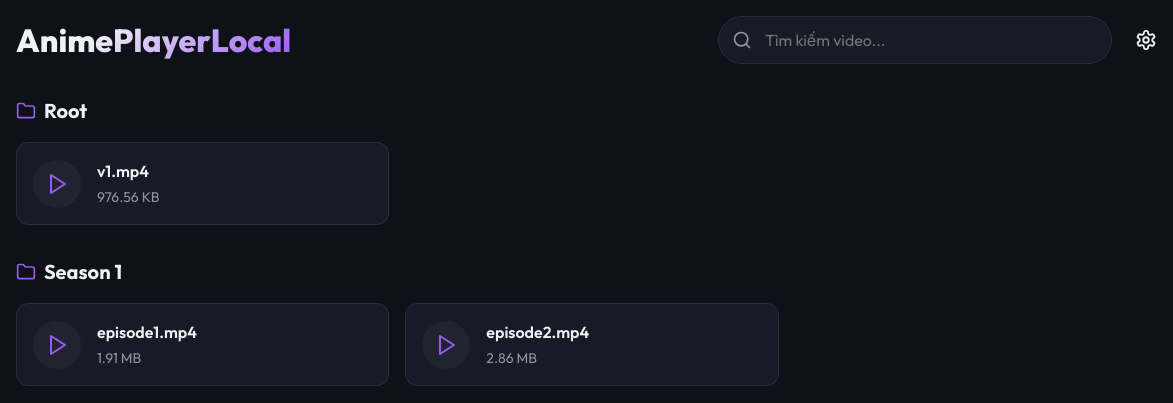
Test: FileBrowser Component › filters video list based on search query
The image size is (1173, 403).
Type "episode" into the field with placeholder "Tìm kiếm video...".
click(915, 40); type("episode")  # box [718, 16, 1112, 64]
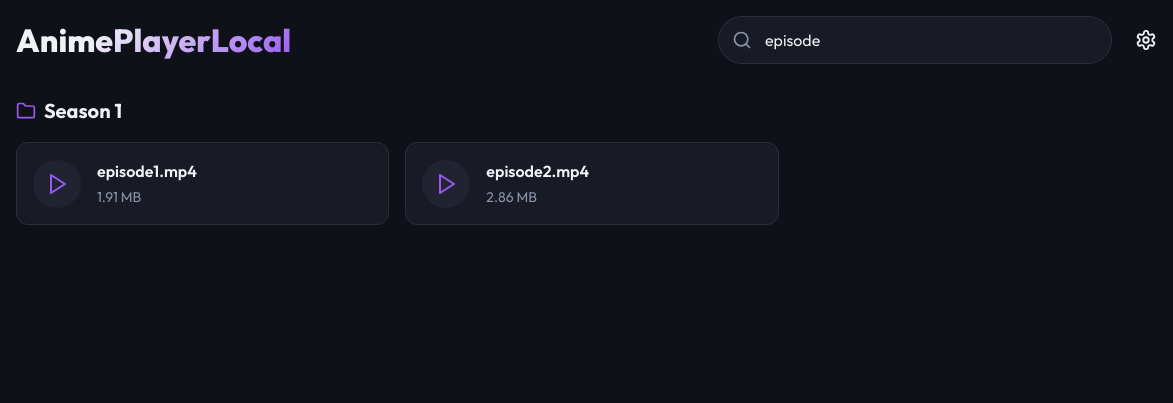
Check: the text "episode1.mp4" is shown, box [97, 161, 197, 181]
Check: the text "v1.mp4" is gone
